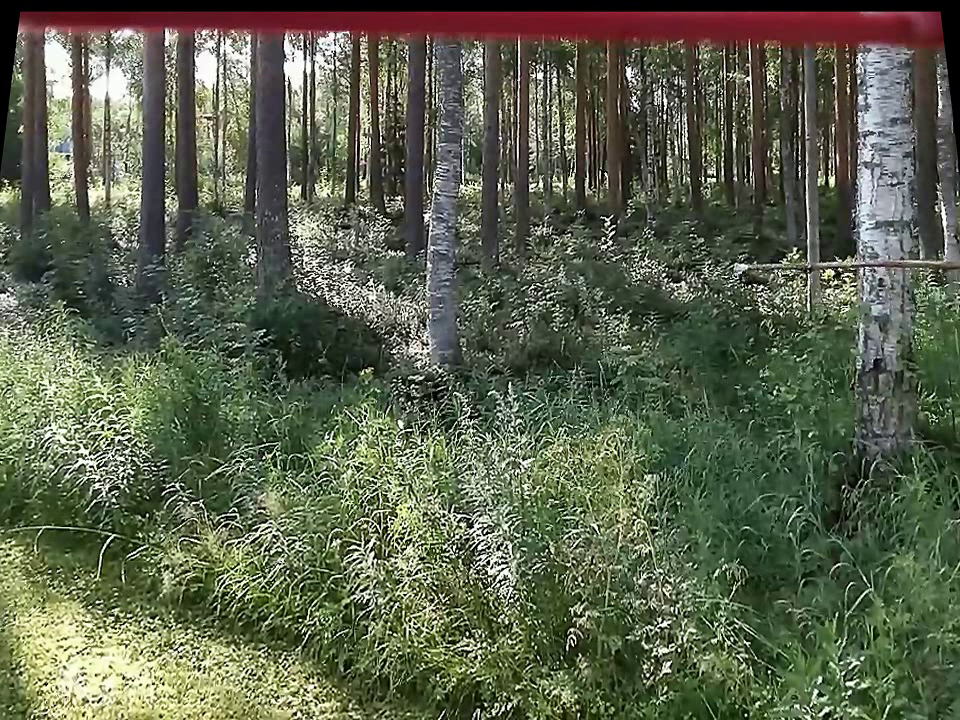branch: (750, 249, 953, 277)
